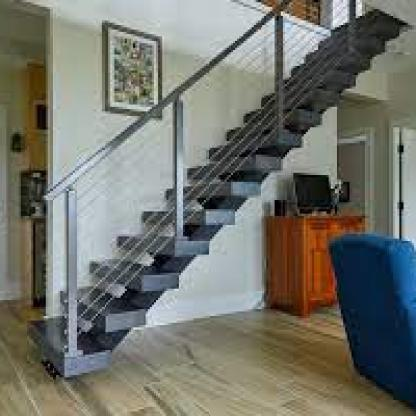stair: (37, 10, 380, 376)
